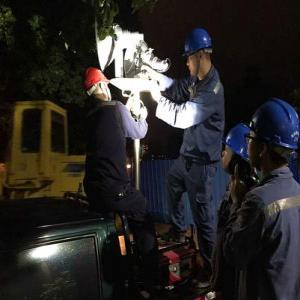blue: (249, 104, 299, 171), (221, 123, 251, 176), (184, 25, 214, 77)
red: (84, 66, 113, 104)
